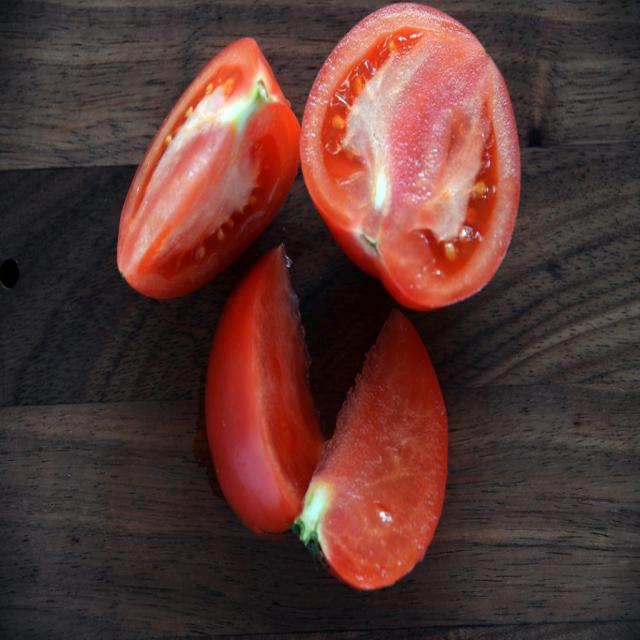Tomato: (294, 5, 528, 316), (108, 35, 304, 308), (295, 308, 454, 596), (202, 237, 328, 544)
